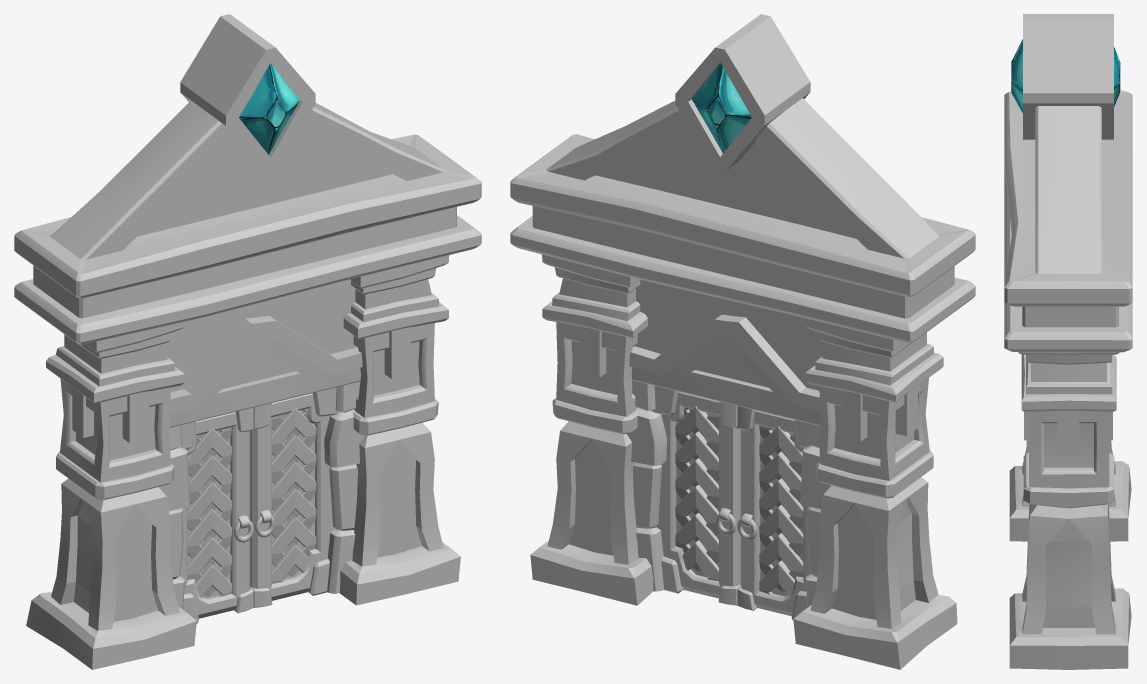
The model's file is Moonset_FBX_door_01 1.fbx.
3 renders of one model, left to right at view 1: azimuth 30°, elevation 25°; view 2: azimuth 150°, elevation 25°; view 3: azimuth 270°, elevation 25°, orthographic.
Parts seen in each view (by area): view 1: Door_01_base, Door_Right, Door_Left; view 2: Door_01_base, Door_Right, Door_Left; view 3: Door_01_base.
Part boxes in pixels (bbox=[...]): Door_01_base: bbox=[14, 14, 481, 669]; Door_Right: bbox=[250, 387, 339, 607]; Door_Left: bbox=[179, 407, 253, 623]; Door_01_base: bbox=[510, 14, 975, 669]; Door_Right: bbox=[651, 386, 740, 605]; Door_Left: bbox=[737, 406, 811, 620]; Door_01_base: bbox=[1004, 14, 1132, 669].
Bounding box in the file's own units: 8.8 × 11.88 × 2.44.
